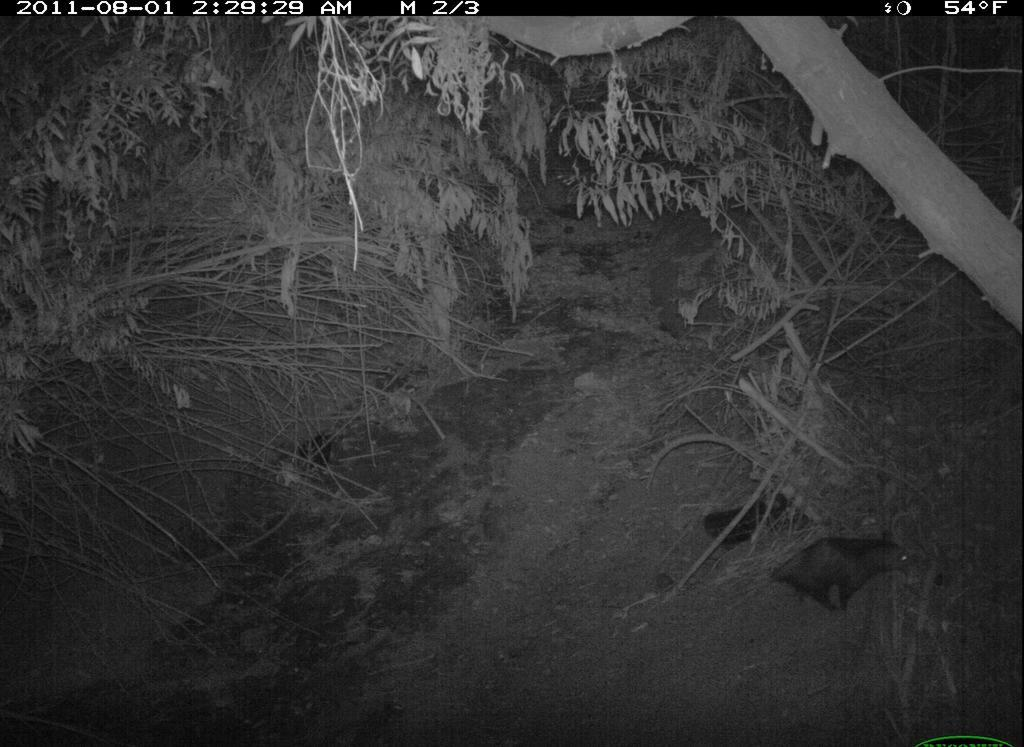opossum: (723, 522, 932, 623)
